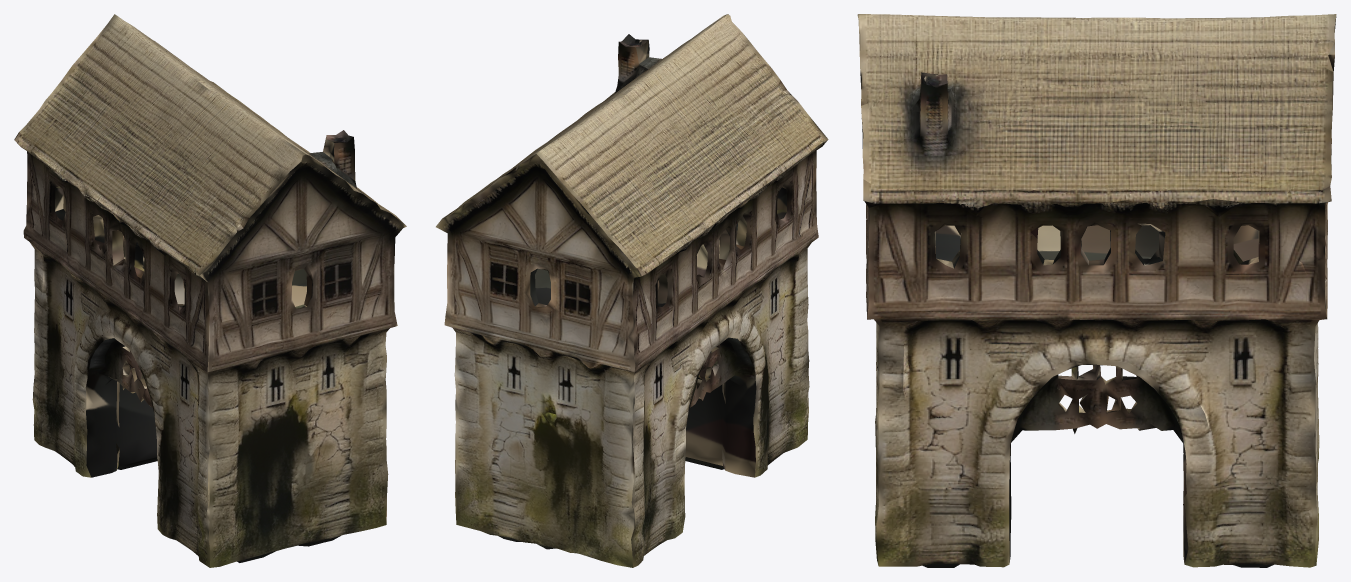
Rendered from town_gatehouse.glb.
The picture shows the model from 3 angles, left to right: view 1: azimuth 30°, elevation 25°; view 2: azimuth 150°, elevation 25°; view 3: azimuth 270°, elevation 25°; orthographic projection. The views are drawn at different scales.
Parts seen in each view (by area): view 1: Gatehouse; view 2: Gatehouse; view 3: Gatehouse.
Boxes of the visible parts, <box> form: Gatehouse: <box>14,14,406,567</box>; Gatehouse: <box>436,14,828,567</box>; Gatehouse: <box>857,14,1336,567</box>.
Bounding box in the file's own units: 3.73 × 7 × 5.93.
1 material, 1 textured.
